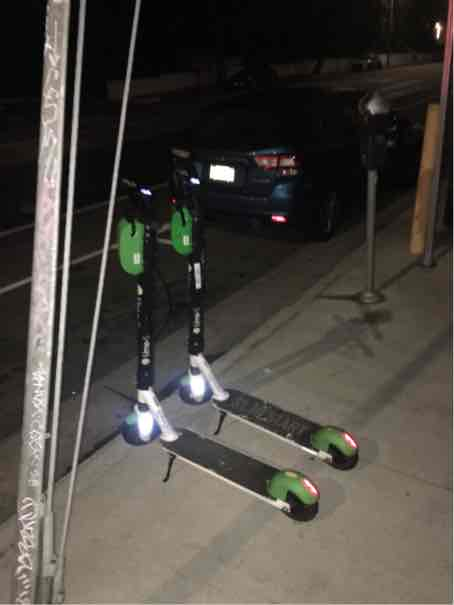too close: (101, 394, 172, 462), (160, 357, 232, 418)
